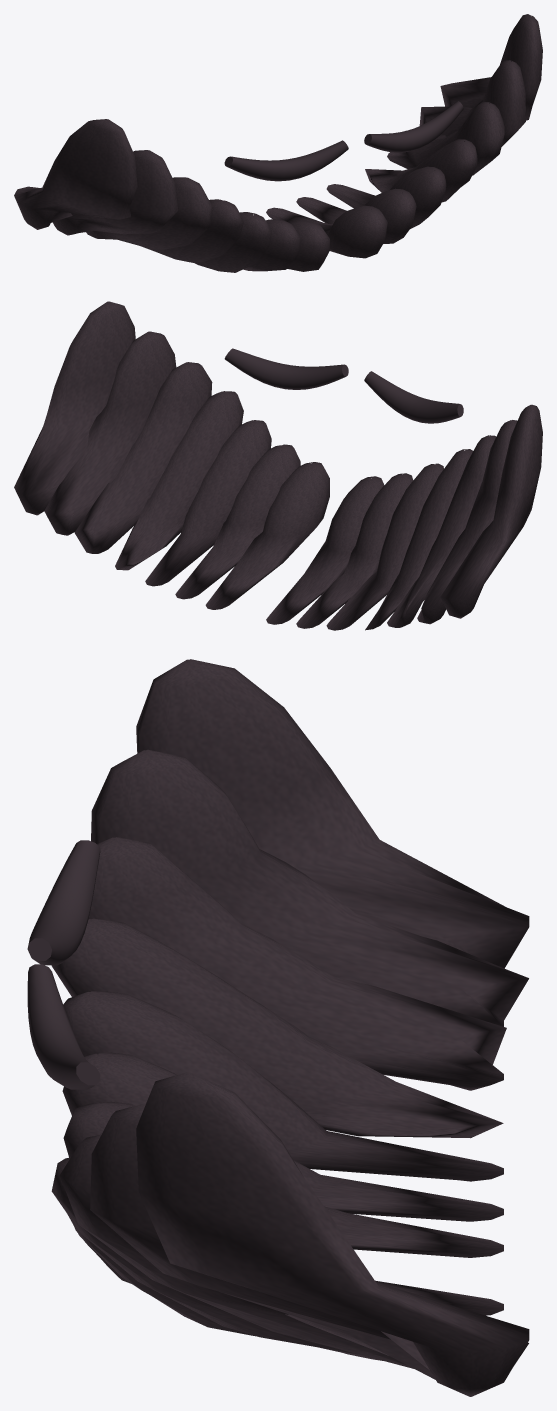
The model's file is facial_friendly_trimmed_beard_default.gltf.
3 views of the same model, one above another, from view 1: azimuth 30°, elevation 25°; view 2: azimuth 150°, elevation 25°; view 3: azimuth 270°, elevation 25° (orthographic). The views are drawn at different scales.
Parts seen in each view (by area): view 1: Friendly Trimmed Beard; view 2: Friendly Trimmed Beard; view 3: Friendly Trimmed Beard.
Part boxes in pixels (x1=…): Friendly Trimmed Beard: x1=14, y1=14, x2=542, y2=272; Friendly Trimmed Beard: x1=14, y1=301, x2=542, y2=630; Friendly Trimmed Beard: x1=27, y1=659, x2=529, y2=1396.
Size of the model in its own units: 0.3711 by 0.1592 by 0.1725.
Materials: 1 (1 with a texture image).
